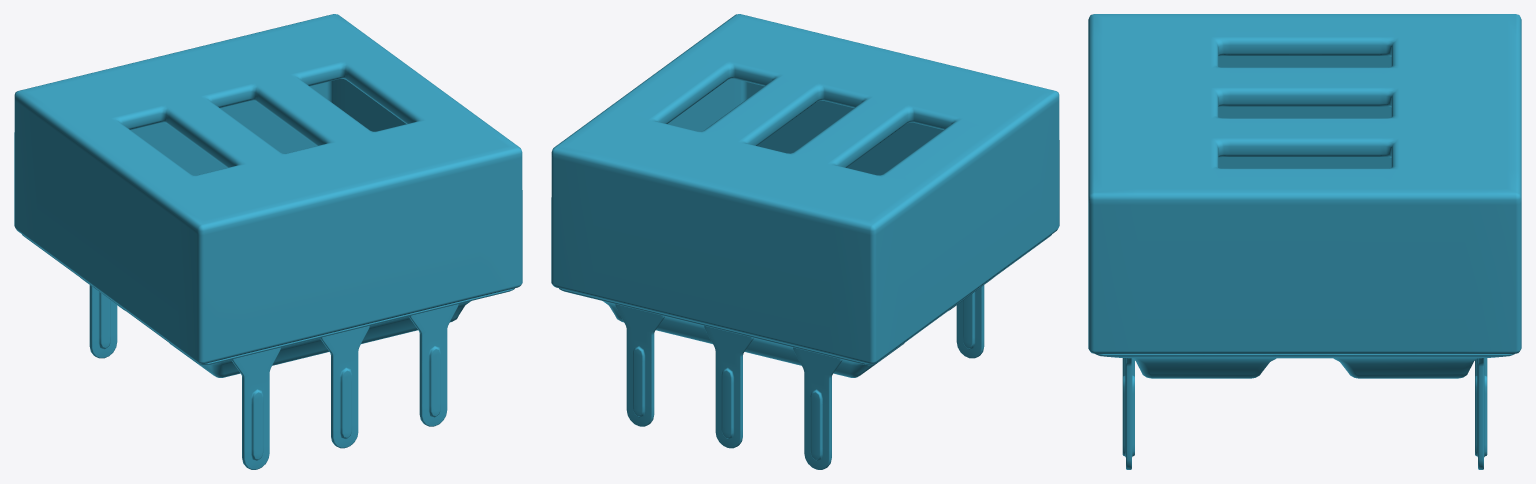
Rendered from Switch.glb.
3 views of the same model, side by side, from view 1: azimuth 30°, elevation 25°; view 2: azimuth 150°, elevation 25°; view 3: azimuth 270°, elevation 25° (orthographic). The views are drawn at different scales.
Visible parts, largest first — view 1: housing_mesh; view 2: housing_mesh; view 3: housing_mesh.
Part boxes in pixels (x1,y1,x2,y2): housing_mesh: [14, 14, 522, 469]; housing_mesh: [551, 14, 1059, 469]; housing_mesh: [1088, 14, 1521, 469].
Size of the model in its own units: 1 by 0.8034 by 1.
